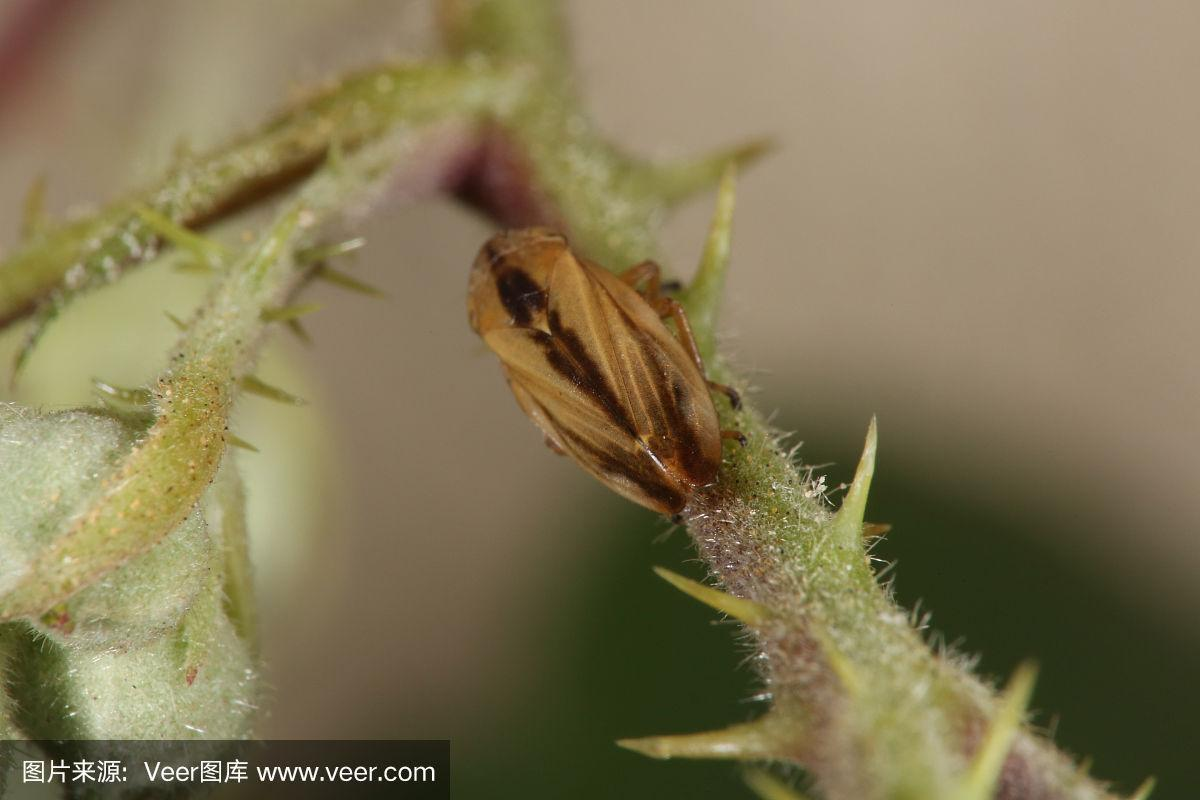Cicadellidae: (467, 224, 750, 518)
